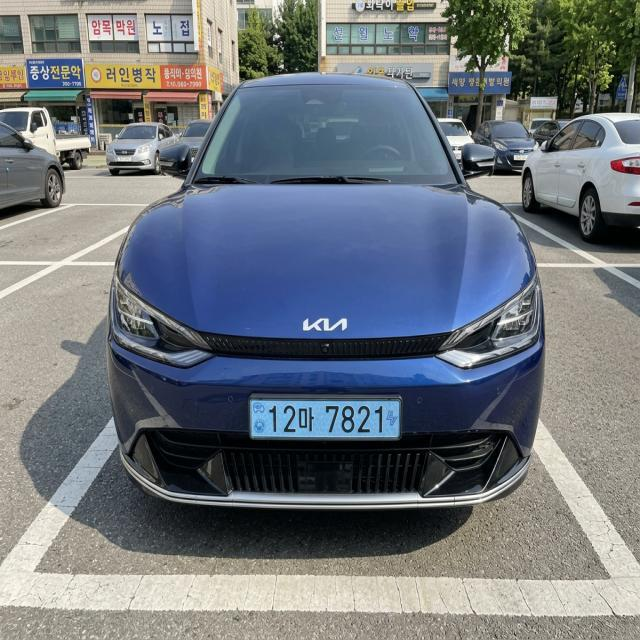car: (233, 386, 422, 462)
carev: (383, 396, 403, 447), (250, 394, 268, 446)
